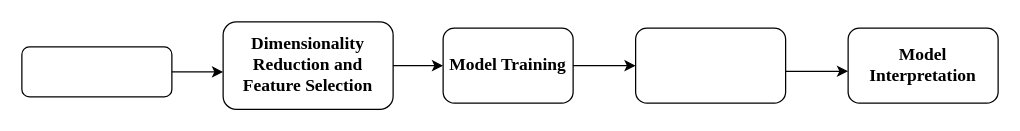
The diagram is 1020 pixels wide and 131 high, and some of its shapes have lost their labels. Each missing label, with the centre of its shape:
"Initial Data Analysis" goes at [96,71].
"Model Evaluation" goes at [710,65].
